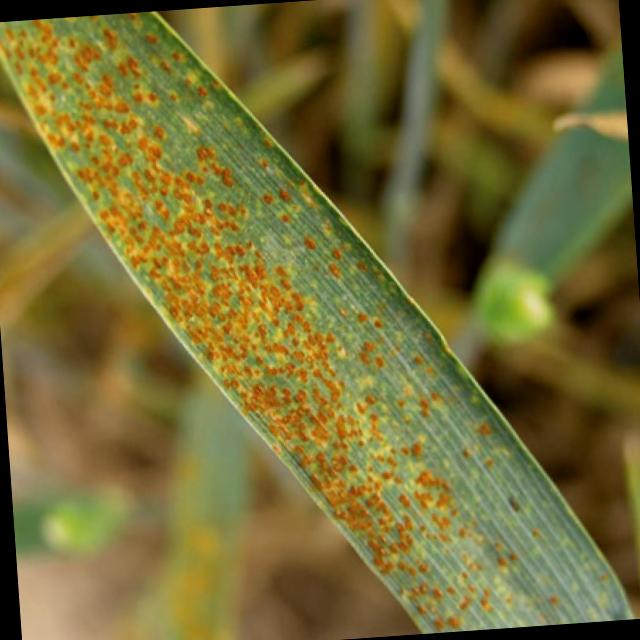leaf_rust: (0, 11, 632, 632)
